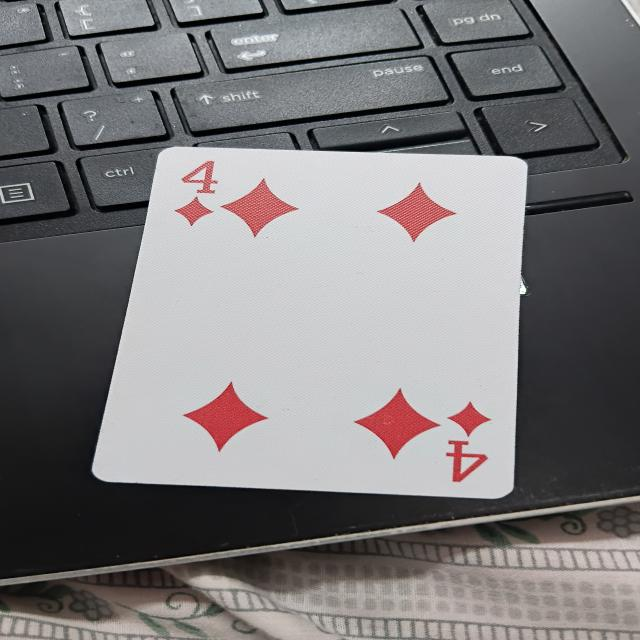4D: (78, 130, 550, 509)
